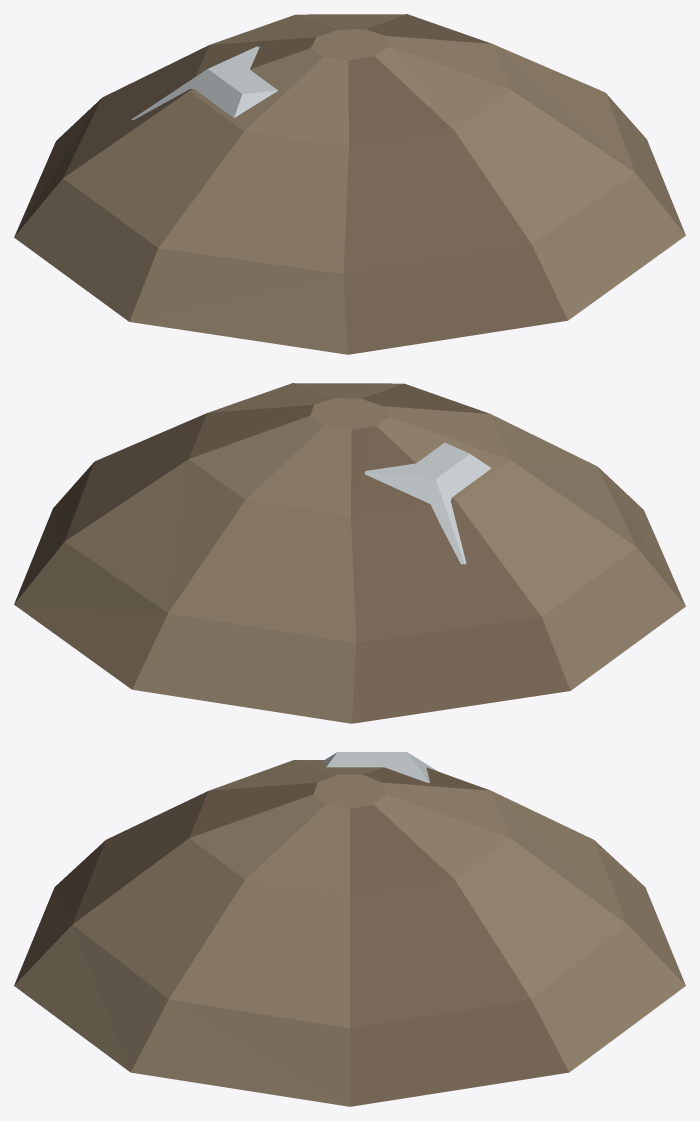
File: sawdust_pile.glb
3 renders of one model, top to bottom at view 1: azimuth 30°, elevation 25°; view 2: azimuth 150°, elevation 25°; view 3: azimuth 270°, elevation 25°, orthographic.
Visible parts, largest first — view 1: sawdust_pile; view 2: sawdust_pile; view 3: sawdust_pile.
Boxes of the visible parts, x1=… form: sawdust_pile: x1=14, y1=14, x2=685, y2=354; sawdust_pile: x1=14, y1=383, x2=685, y2=723; sawdust_pile: x1=14, y1=752, x2=685, y2=1106.
Size of the model in its own units: 2.88 by 0.8 by 2.88.
